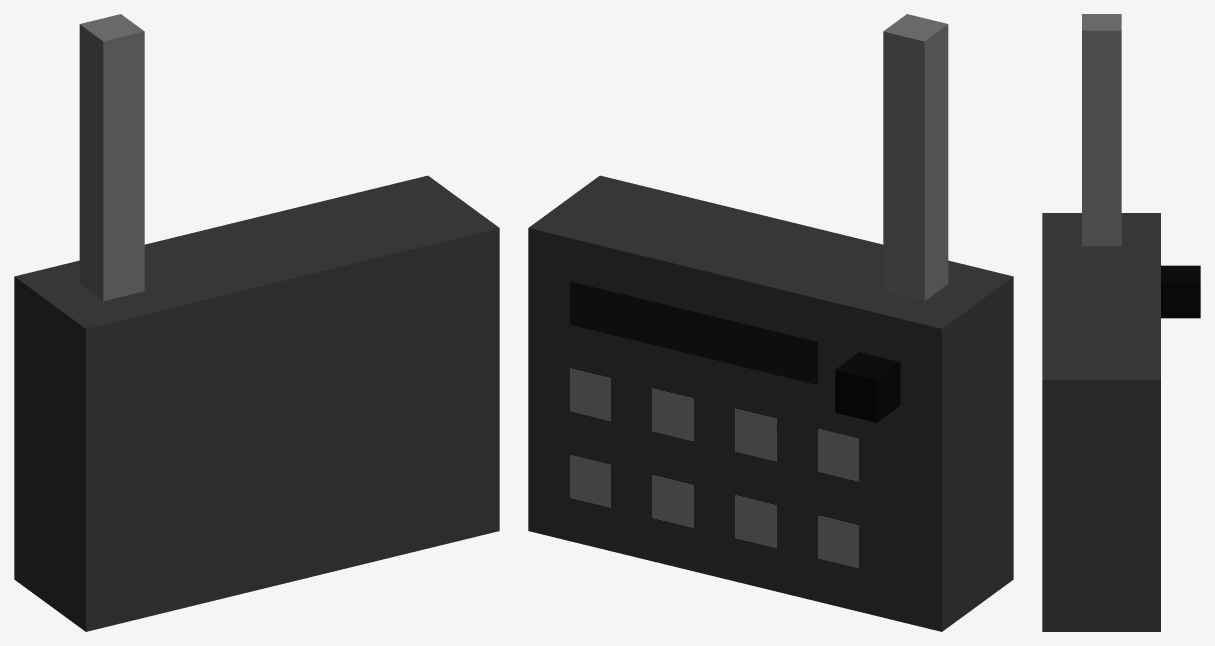
The model's file is radio2.dae.
The picture shows the model from 3 angles, left to right: view 1: azimuth 30°, elevation 25°; view 2: azimuth 150°, elevation 25°; view 3: azimuth 270°, elevation 25°; orthographic projection. The views are drawn at different scales.
Visible parts, largest first — view 1: radio2; view 2: radio2; view 3: radio2.
Part boxes in pixels (x1,y1,x2,y2): radio2: (14,14,499,631); radio2: (528,14,1013,631); radio2: (1042,14,1200,631).
Bounding box in the file's own units: 1 × 1.3 × 0.4.
Materials: 1 (1 with a texture image).
